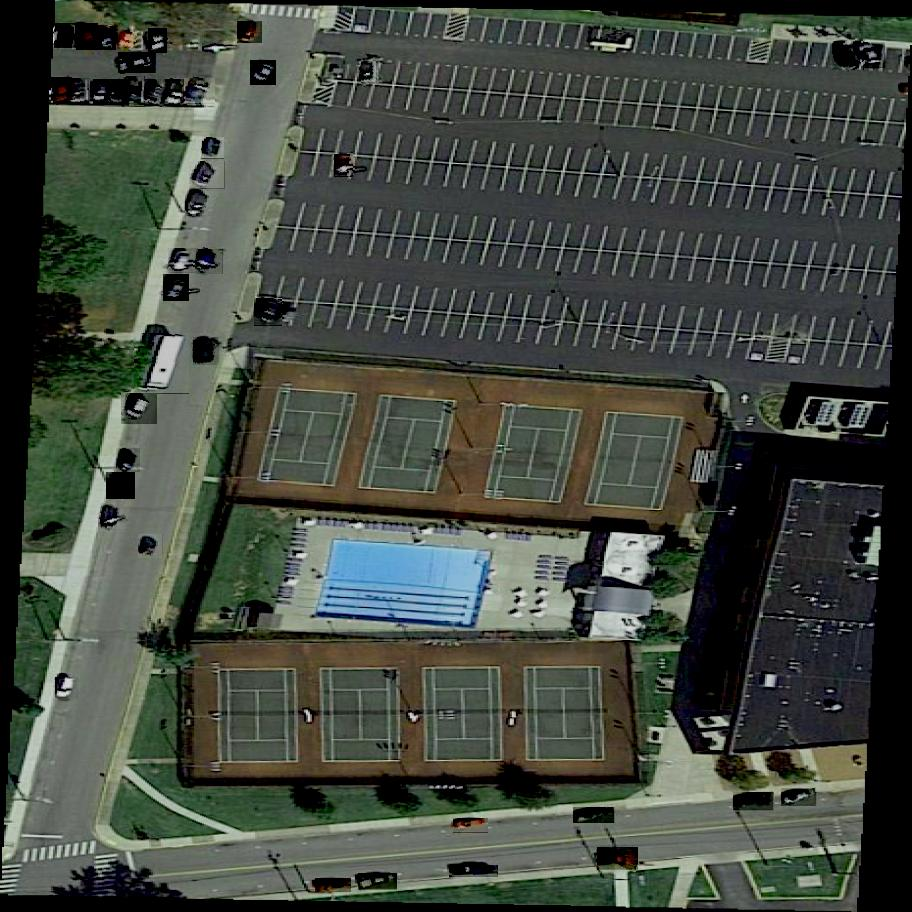large-vehicle: (134, 326, 189, 403)
small-vehicle: (122, 391, 157, 428), (190, 157, 225, 194), (832, 38, 865, 74), (594, 848, 640, 872), (168, 244, 198, 280), (184, 75, 215, 109), (856, 39, 885, 74), (106, 469, 136, 502), (194, 334, 220, 369), (733, 792, 774, 814), (255, 297, 283, 329), (186, 186, 213, 219), (142, 77, 170, 108), (117, 52, 157, 73), (163, 272, 190, 303), (105, 78, 132, 108), (196, 247, 223, 277), (165, 78, 190, 108), (250, 59, 277, 86), (116, 445, 141, 474), (574, 807, 616, 824), (101, 501, 124, 532), (359, 873, 398, 891), (782, 788, 817, 808), (237, 18, 262, 46), (56, 674, 80, 703), (139, 532, 163, 561), (143, 28, 170, 53), (54, 23, 78, 51), (77, 24, 100, 52), (202, 134, 225, 162), (449, 866, 497, 879), (126, 76, 144, 106), (453, 818, 489, 833), (53, 77, 72, 104), (116, 29, 138, 52), (315, 878, 351, 892), (70, 79, 89, 103), (97, 26, 115, 50), (93, 80, 111, 103), (336, 155, 353, 176), (362, 62, 376, 82)
